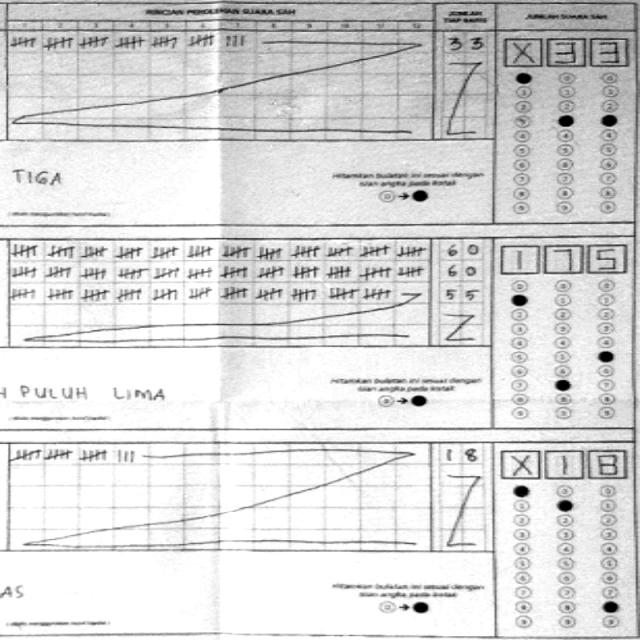Suara: (494, 442, 630, 482), (496, 31, 632, 70), (495, 240, 631, 278)
